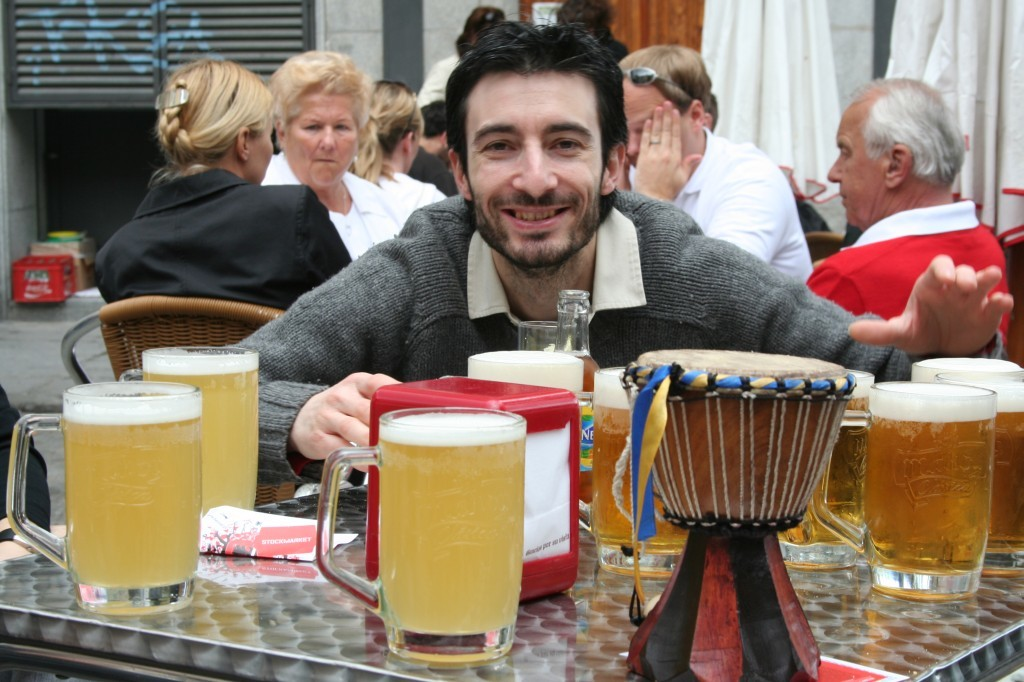Beer: (320, 409, 526, 674), (0, 370, 204, 623), (808, 370, 1011, 610), (112, 341, 263, 529), (439, 341, 595, 519), (588, 351, 696, 583), (778, 365, 878, 577), (924, 366, 1022, 573)
